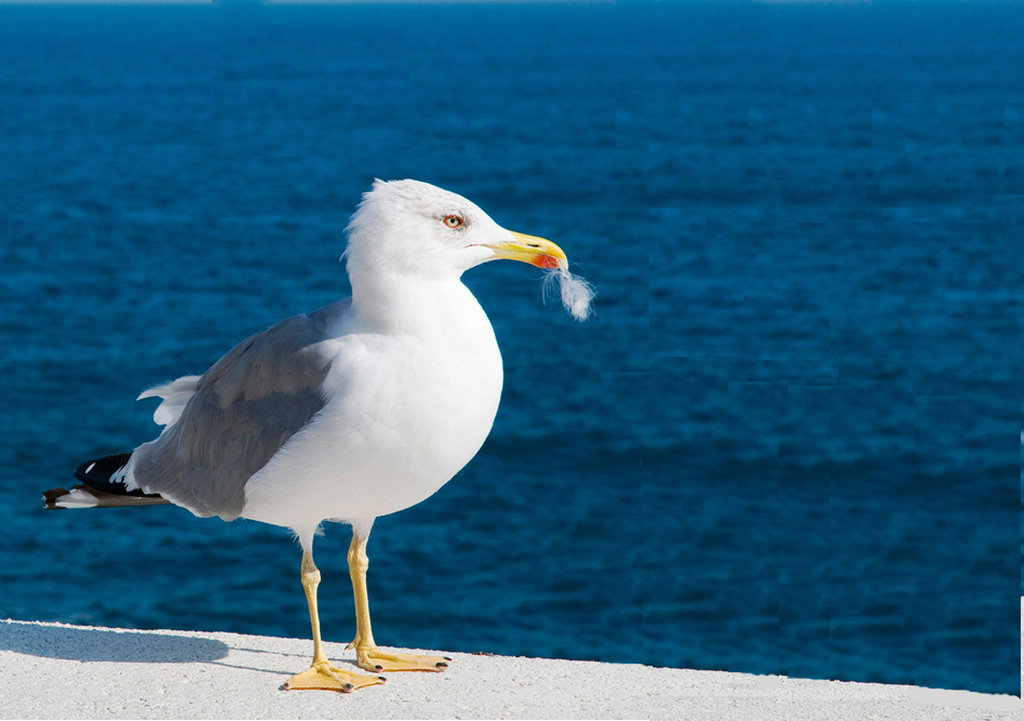Bird: (40, 177, 569, 693)
